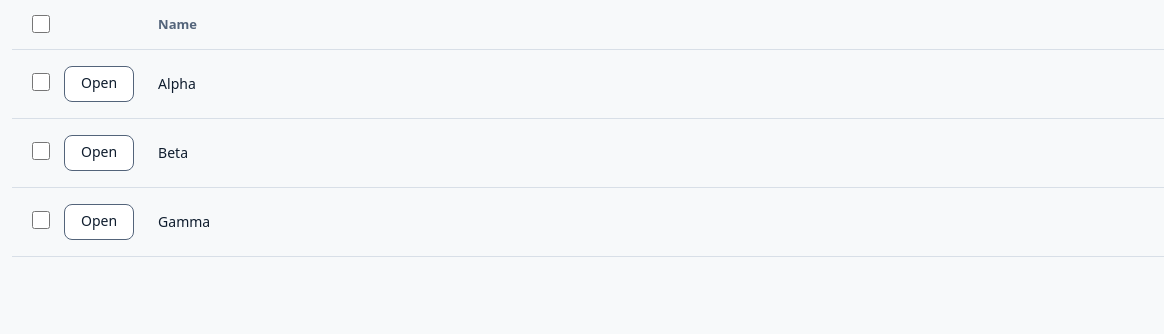
Test case: DataTable + useRowSelection + SelectionSummary, composed › one row selected: the count names the page and the header shows mixed
Click the checkbox named "Select Beta": (41, 151) [32,142,50,160]
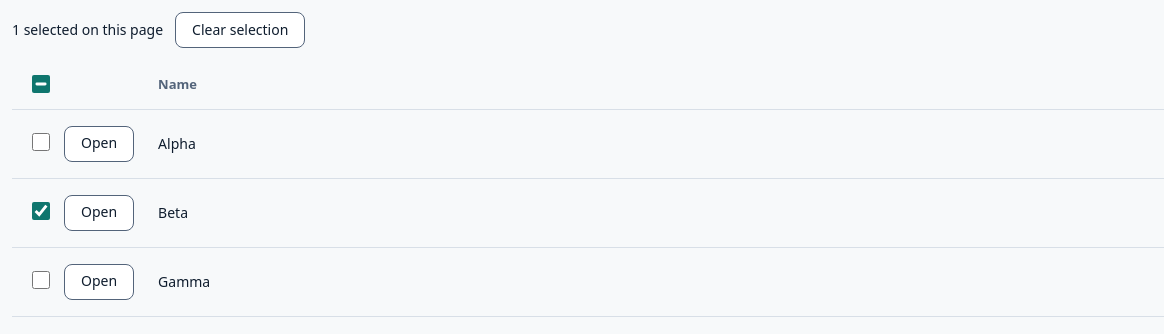
Check: the checkbox named "Select all rows on this page" is not checked, box [32,75,50,93]
Check: the text "1 selected on this page" is shown, box [12,18,163,42]
